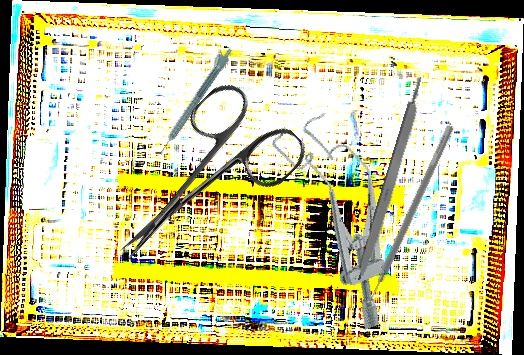Handpiece: (152, 43, 235, 157)
Iris Scissors: (85, 71, 313, 298)
Scalpel Handle: (354, 75, 430, 283)
Spatula Surgical: (358, 120, 455, 312)
Speculum: (267, 103, 425, 337)
